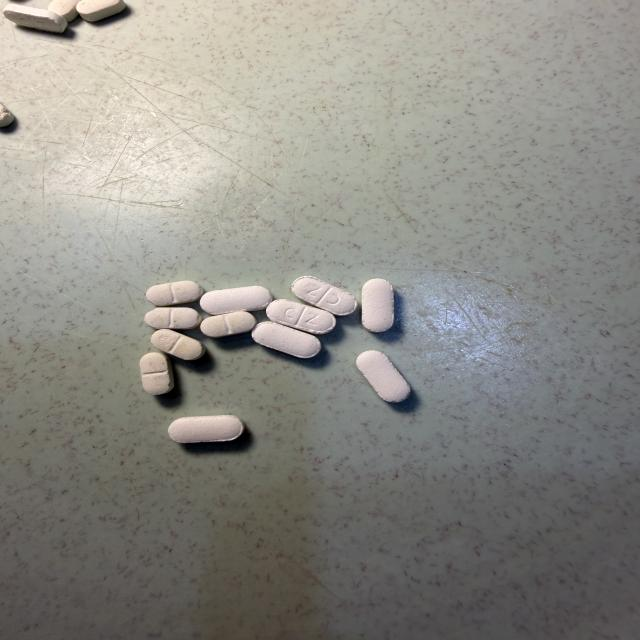pill: (357, 351, 410, 402), (292, 277, 357, 316), (252, 322, 321, 358), (266, 300, 335, 334), (169, 415, 244, 443), (200, 286, 272, 314), (4, 4, 67, 32), (151, 329, 204, 360), (362, 279, 393, 332), (201, 311, 256, 337), (147, 281, 203, 306), (140, 353, 173, 394), (145, 307, 202, 329), (77, 0, 125, 21), (48, 0, 78, 22), (0, 104, 14, 127)
